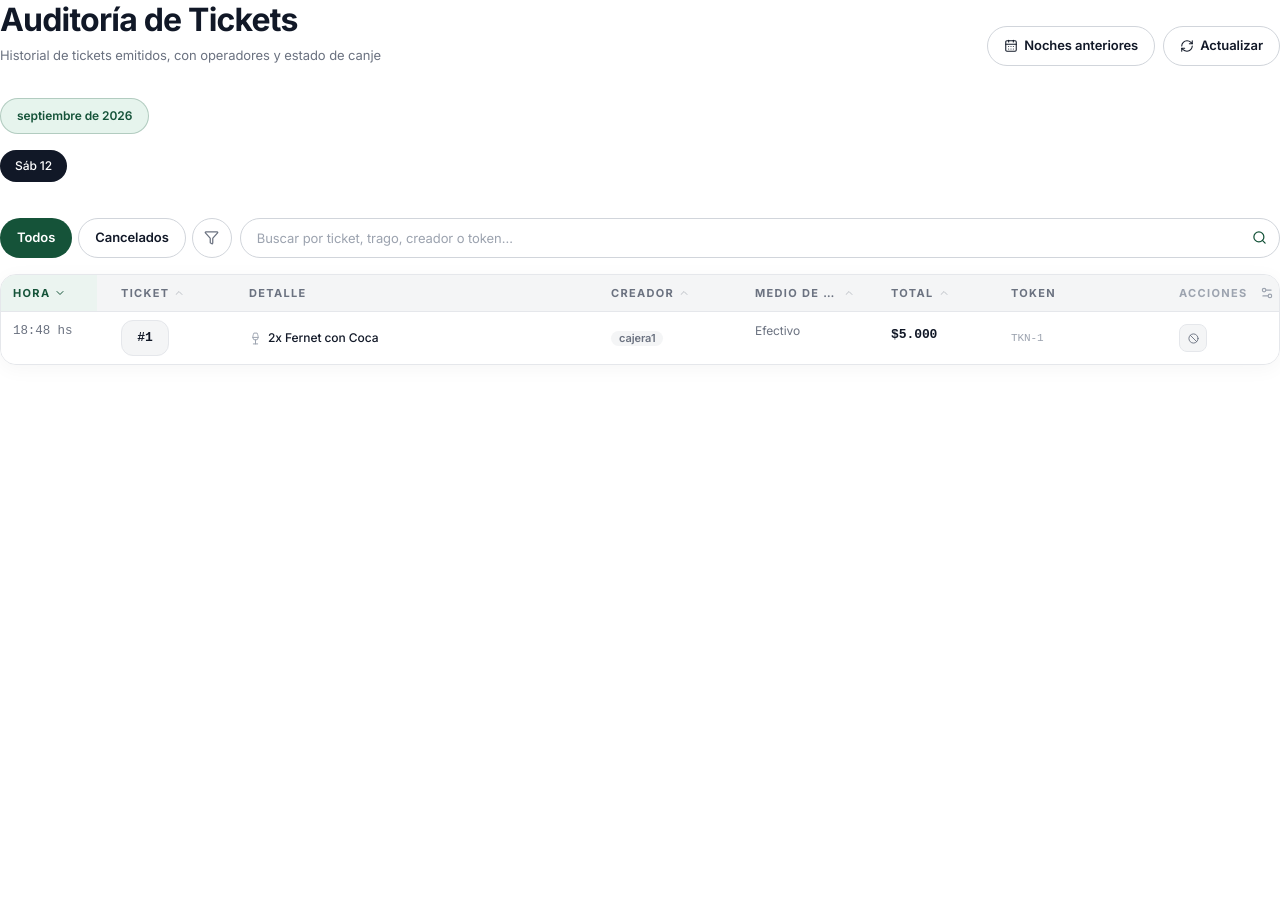
Test case: LogsSection › cancela un ticket y muestra el triangulito rojo interactivo
Step 1. Click the button named "Cancelar ticket #1" → x=1193, y=338, box top-left (1179, 320), bottom-right (1207, 356)
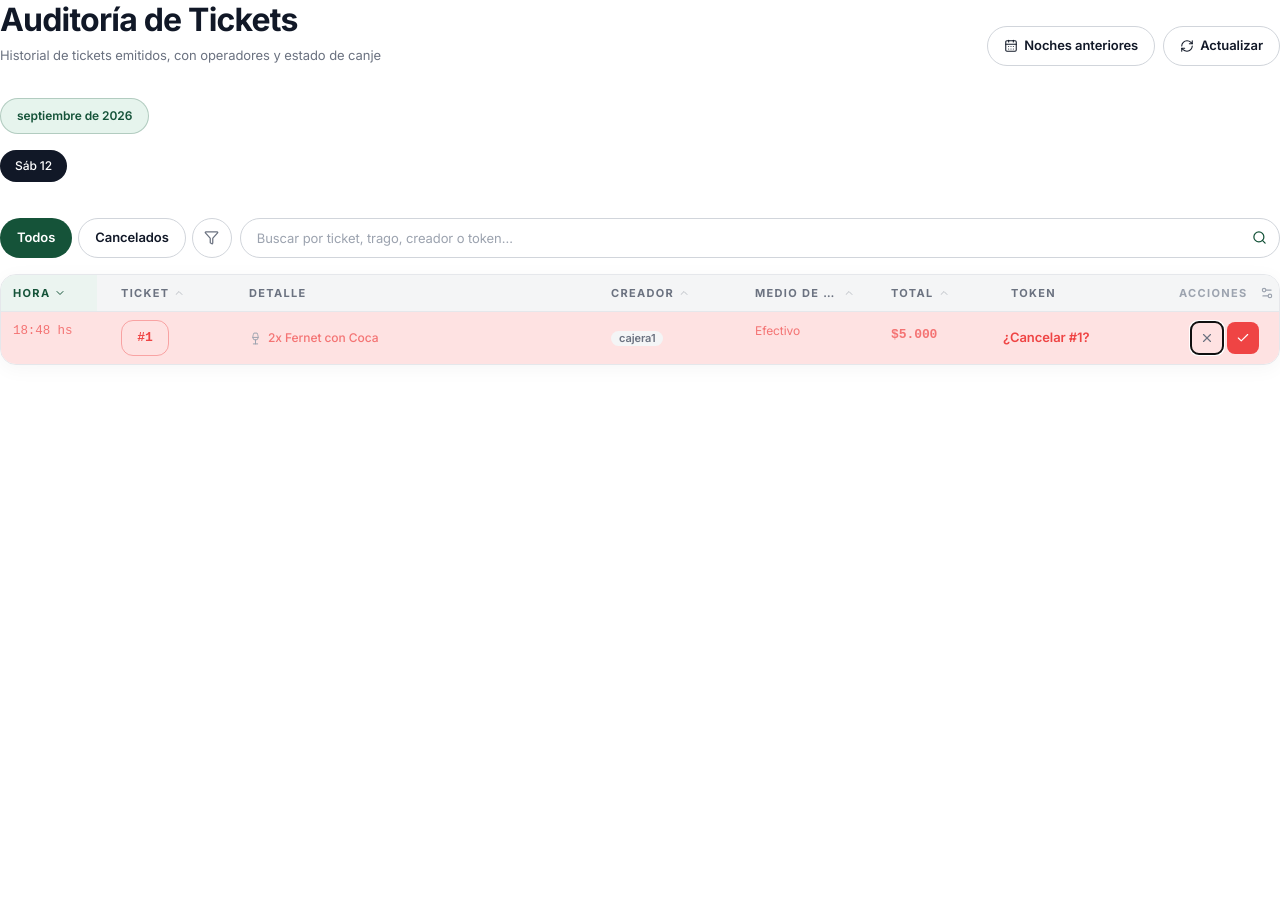
Step 2. Click the button named "Confirmar" → x=1243, y=338, box top-left (1227, 322), bottom-right (1259, 354)
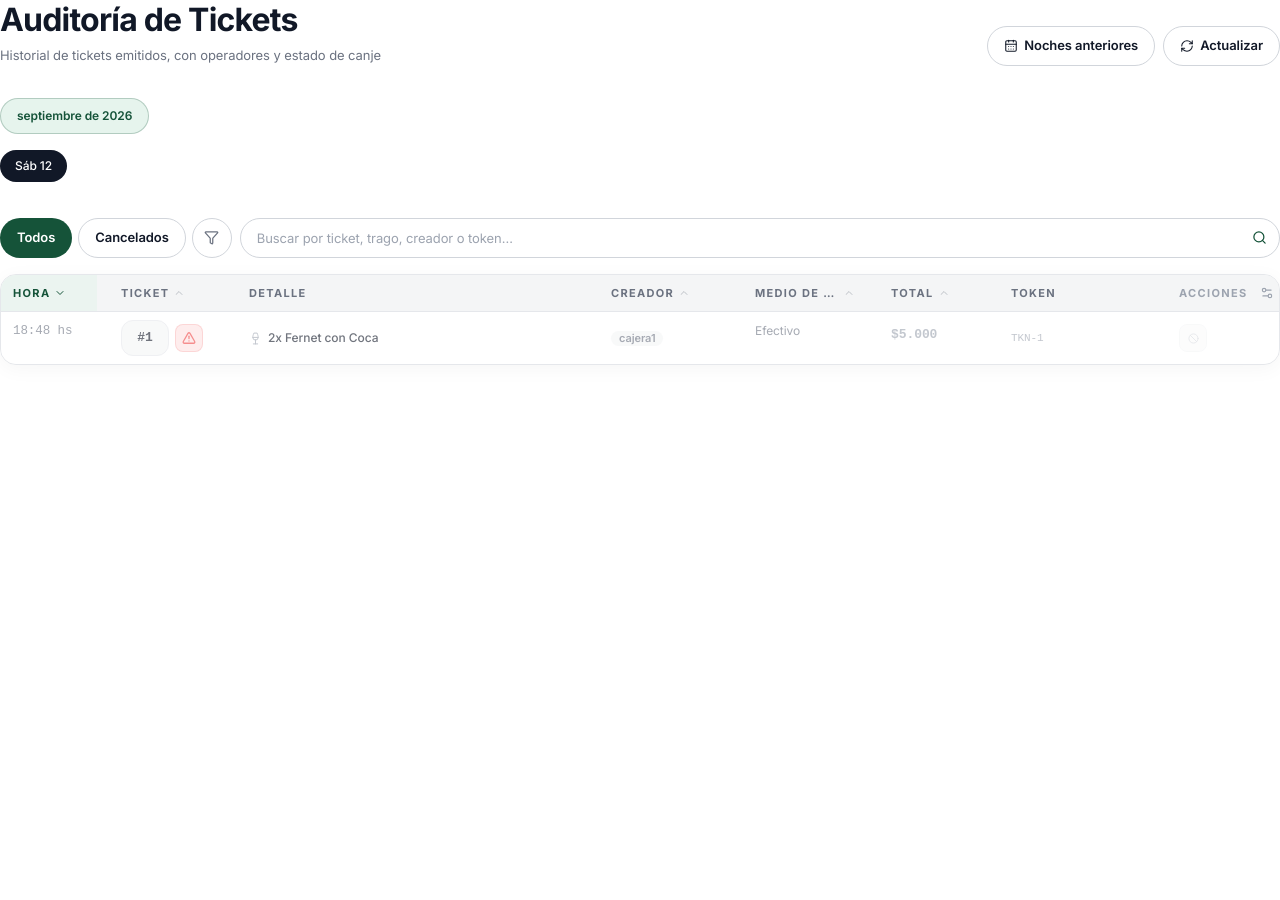
expect the button named "Ver detalles de cancelación del ticket #1" is shown: met
Step 3. Click the button named "Ver detalles de cancelación del ticket #1" → x=189, y=338, box top-left (175, 324), bottom-right (203, 352)
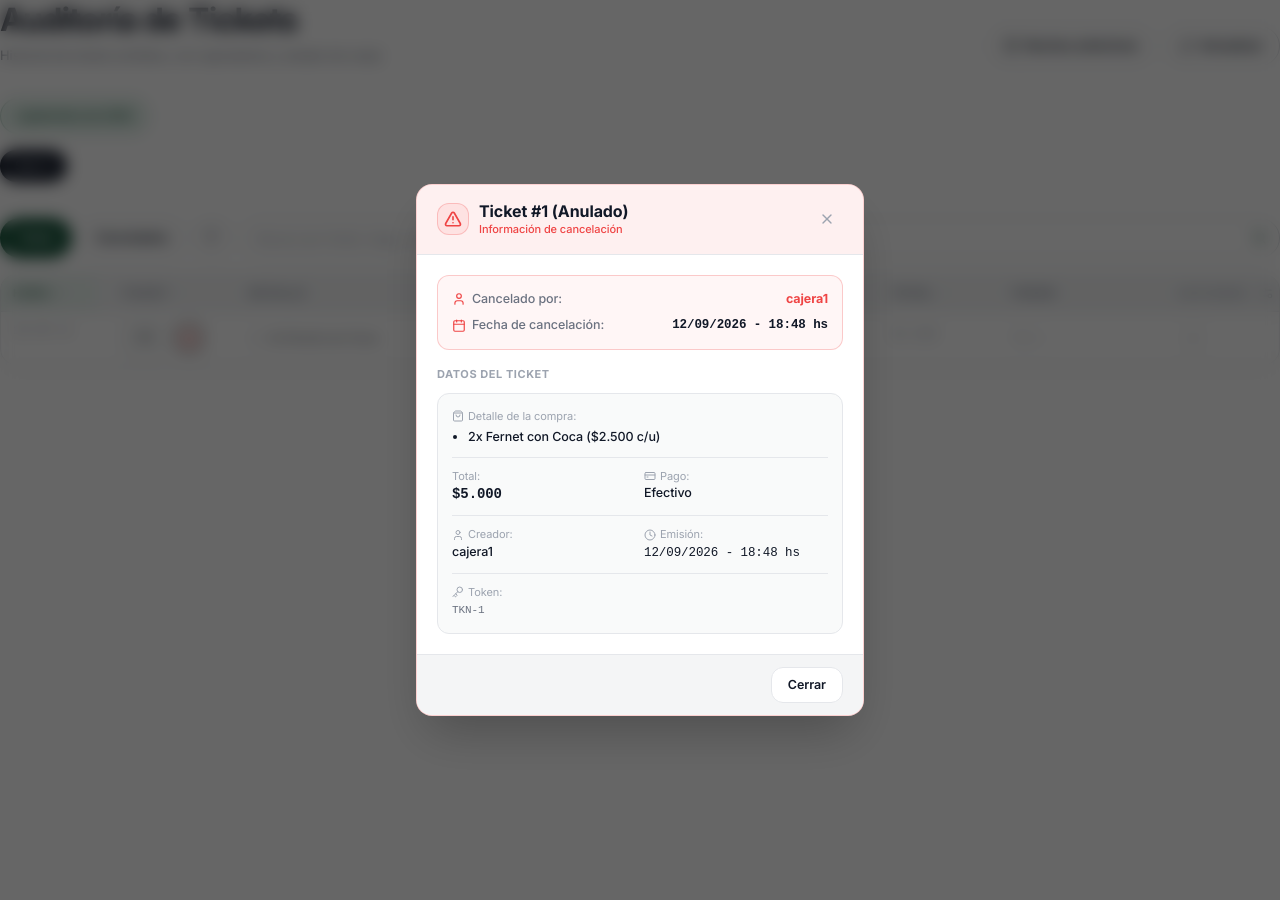
expect the text "Información de cancelación" is shown: met, box top-left (479, 221), bottom-right (628, 238)
